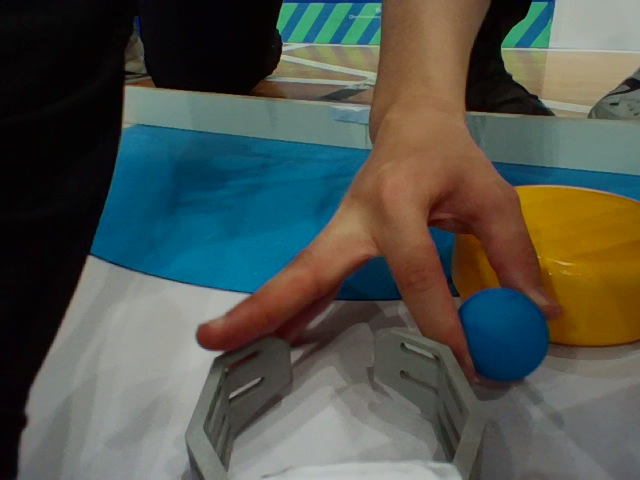blue: (437, 284, 562, 390)
yellow: (453, 155, 637, 366)
